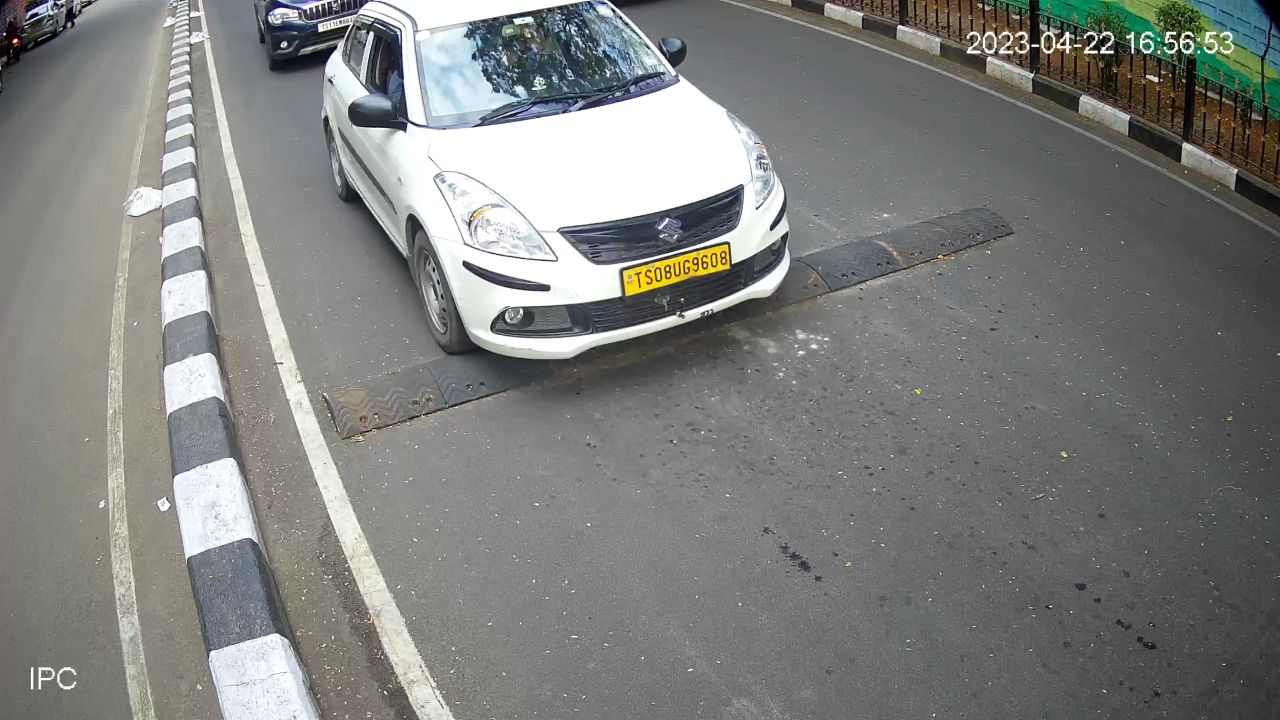license_plate: (618, 239, 742, 306)
